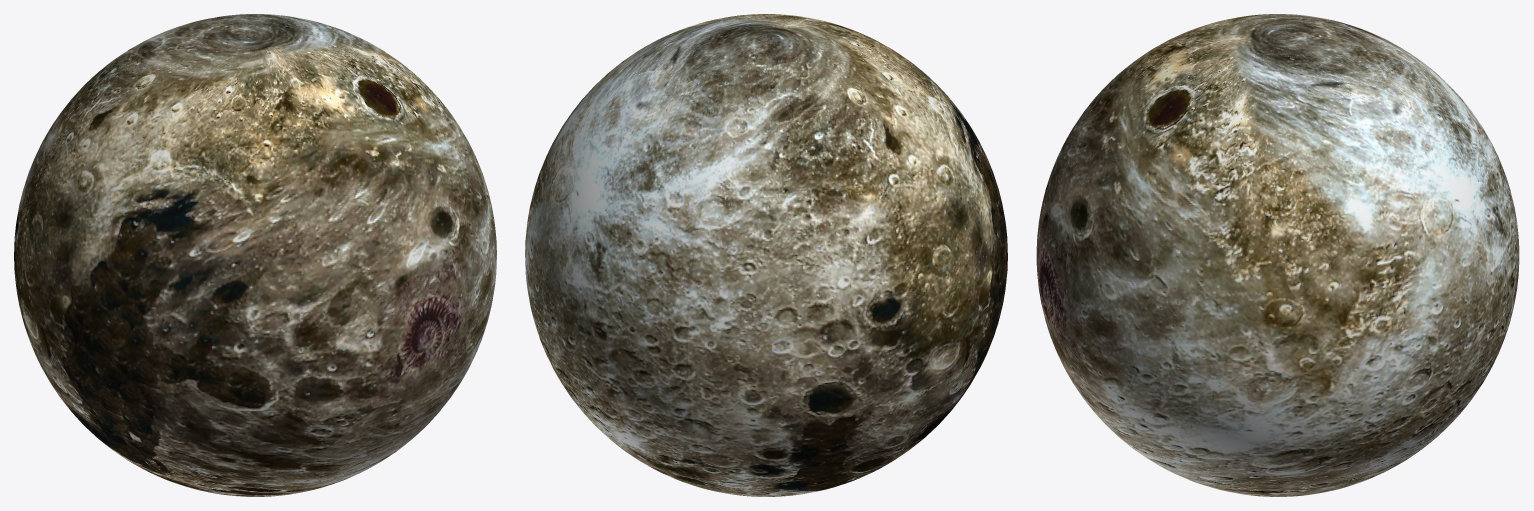
Rendered from Vermora.glb.
3 views of the same model, side by side, from view 1: azimuth 30°, elevation 25°; view 2: azimuth 150°, elevation 25°; view 3: azimuth 270°, elevation 25° (orthographic).
Parts seen in each view (by area): view 1: Esfera; view 2: Esfera; view 3: Esfera.
Boxes of the visible parts, left/top/right/bottom form: Esfera: left=14, top=14, right=496, bottom=496; Esfera: left=525, top=14, right=1007, bottom=496; Esfera: left=1036, top=14, right=1519, bottom=496.
Bounding box in the file's own units: 2000 × 2000 × 2000.
1 material, 1 textured.
